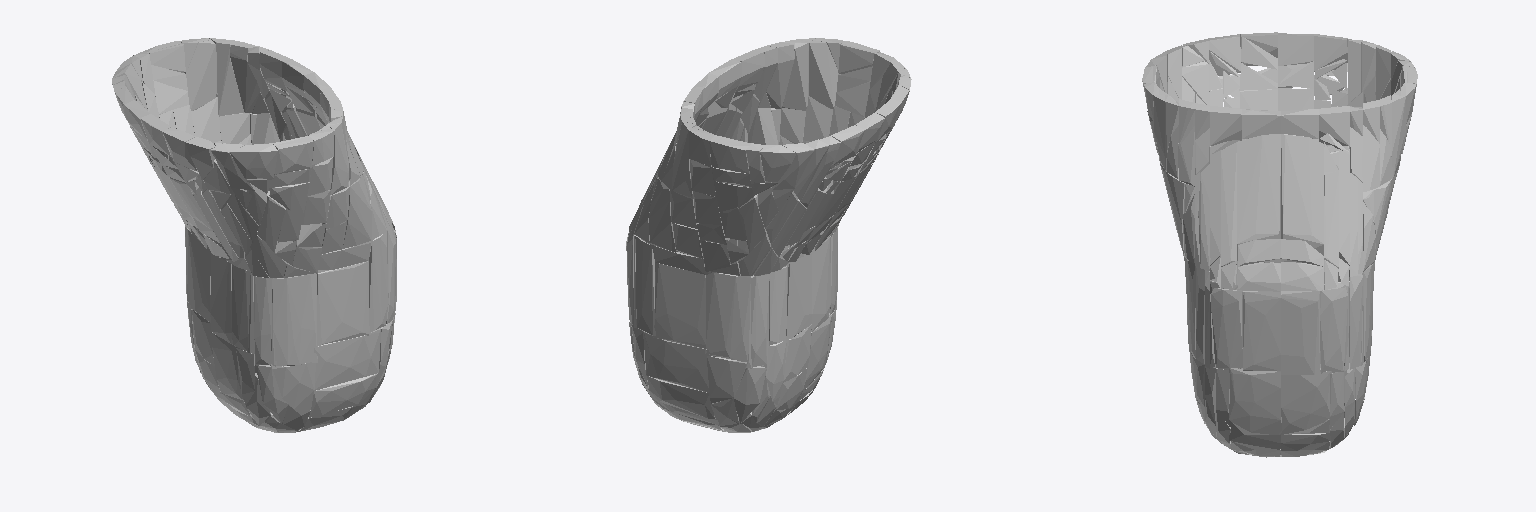
Rendered from hole2_vhacd.obj.
The picture shows the model from 3 angles: view 1: azimuth 30°, elevation 25°; view 2: azimuth 150°, elevation 25°; view 3: azimuth 270°, elevation 25°; orthographic projection.
Visible parts, largest first — view 1: convex_91, convex_188, convex_101, convex_107, convex_232, convex_116, convex_99, convex_270, convex_90, convex_238, convex_302, convex_278 (+28 smaller); view 2: convex_134, convex_62, convex_75, convex_270, convex_84, convex_166, convex_209, convex_232, convex_74, convex_61, convex_275, convex_303 (+28 smaller); view 3: convex_293, convex_285, convex_146, convex_104, convex_180, convex_83, convex_181, convex_145, convex_296, convex_283, convex_282, convex_298 (+28 smaller).
Part boxes in pixels (bbox=[...]): convex_91: bbox=[272, 274, 317, 366]; convex_188: bbox=[317, 261, 370, 345]; convex_101: bbox=[314, 327, 381, 390]; convex_107: bbox=[369, 231, 388, 331]; convex_232: bbox=[210, 254, 231, 343]; convex_116: bbox=[186, 40, 215, 110]; convex_99: bbox=[309, 373, 378, 417]; convex_270: bbox=[188, 230, 210, 322]; convex_90: bbox=[271, 362, 315, 409]; convex_238: bbox=[254, 276, 272, 365]; convex_302: bbox=[343, 176, 371, 248]; convex_278: bbox=[216, 40, 244, 116]; convex_134: bbox=[653, 263, 705, 348]; convex_62: bbox=[705, 273, 750, 362]; convex_75: bbox=[643, 331, 709, 392]; convex_270: bbox=[786, 253, 811, 342]; convex_84: bbox=[635, 236, 655, 335]; convex_166: bbox=[809, 40, 837, 108]; convex_209: bbox=[751, 274, 769, 367]; convex_232: bbox=[811, 236, 830, 331]; convex_74: bbox=[645, 375, 714, 418]; convex_61: bbox=[707, 356, 747, 403]; convex_275: bbox=[649, 179, 675, 252]; convex_303: bbox=[782, 39, 808, 110]; convex_293: bbox=[1237, 134, 1280, 262]; convex_285: bbox=[1281, 134, 1323, 261]; convex_146: bbox=[1281, 291, 1319, 374]; convex_104: bbox=[1229, 368, 1282, 435]; convex_180: bbox=[1243, 291, 1280, 370]; convex_83: bbox=[1279, 371, 1331, 434]; convex_181: bbox=[1211, 288, 1242, 367]; convex_145: bbox=[1320, 287, 1347, 373]; convex_296: bbox=[1221, 142, 1236, 266]; convex_283: bbox=[1324, 171, 1338, 281]; convex_282: bbox=[1339, 149, 1349, 264]; convex_298: bbox=[1210, 150, 1220, 265].
Bounding box in the file's own units: 1.65 × 2.3 × 1.69.